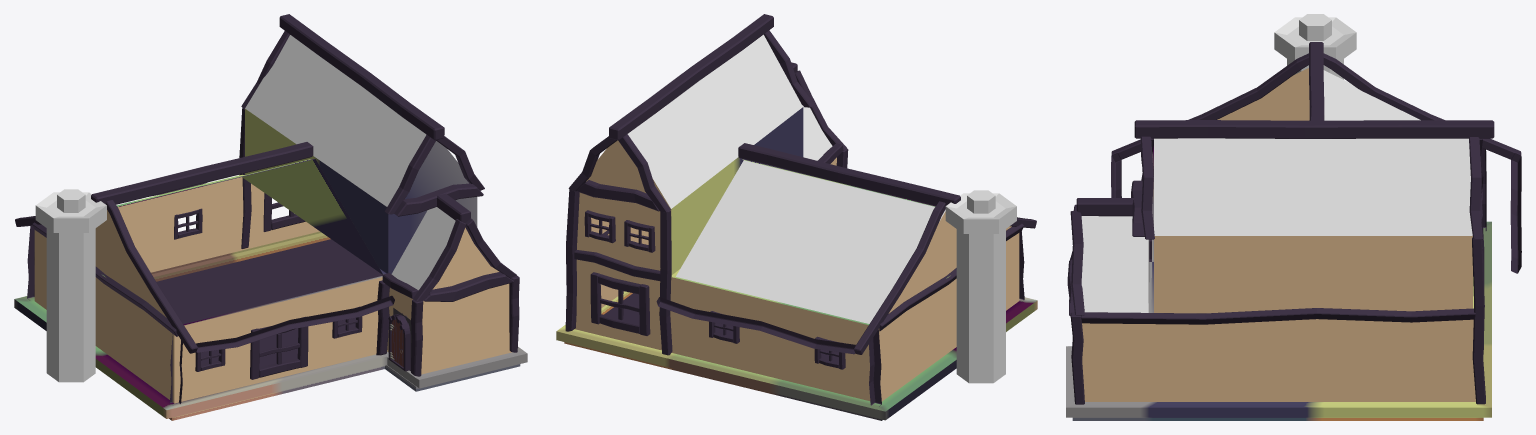
Rendered from player-hut-mk0.glb.
3 renders of one model, left to right at view 1: azimuth 30°, elevation 25°; view 2: azimuth 150°, elevation 25°; view 3: azimuth 270°, elevation 25°, orthographic. The views are drawn at different scales.
Visible parts, largest first — view 1: main-hut, roof, chimney, roof-base, Cube.200, Cube.203, Cube.212, Cube.211, door.001, Cube.206, roof-base.001, Cube.208 (+8 smaller); view 2: main-hut, roof, chimney, roof-base, Cube.200, Cube.203, Cube.213, Cube.202, Cube.214, roof-base.001, Cube.210, Cube.271 (+7 smaller); view 3: main-hut, roof, Cube.203, roof-base, roof-base.002, chimney, Cube.202, Cube.200, Cube.207, Cube.205, Cube.209, Cube.204 (+2 smaller).
Part boxes in pixels (x1,y1,x2,y2): main-hut: (14,109,527,420); roof: (245,35,455,290); chimney: (35,189,106,382); roof-base: (15,173,394,403); Cube.200: (91,142,313,204); Cube.203: (279,14,444,140); Cube.212: (424,272,513,301); Cube.211: (394,183,483,216); door.001: (388,313,410,371); Cube.206: (413,219,465,301); roof-base.001: (32,222,178,336); Cube.208: (385,134,435,214); main-hut: (556,107,1037,420); roof: (627,34,945,323); chimney: (945,190,1016,383); roof-base: (656,201,1036,406); Cube.200: (738,143,960,205); Cube.203: (609,14,773,140); Cube.213: (659,210,672,355); Cube.202: (565,189,579,331); Cube.214: (577,180,659,211); roof-base.001: (879,224,1024,331); Cube.210: (618,134,670,212); Cube.271: (574,250,660,280); main-hut: (1066,68,1491,420); roof: (1081,70,1472,312); Cube.203: (1134,120,1494,138); roof-base: (1111,53,1521,273); roof-base.002: (1081,308,1475,324); chimney: (1274,14,1356,79); Cube.202: (1472,237,1485,404); Cube.200: (1309,42,1324,120); Cube.207: (1140,136,1154,239); Cube.205: (1070,211,1084,315); Cube.209: (1469,137,1482,239); Cube.204: (1076,198,1135,216).
Size of the model in its own units: 17.66 by 10.42 by 16.06.
Materials: 2 (2 with a texture image).
